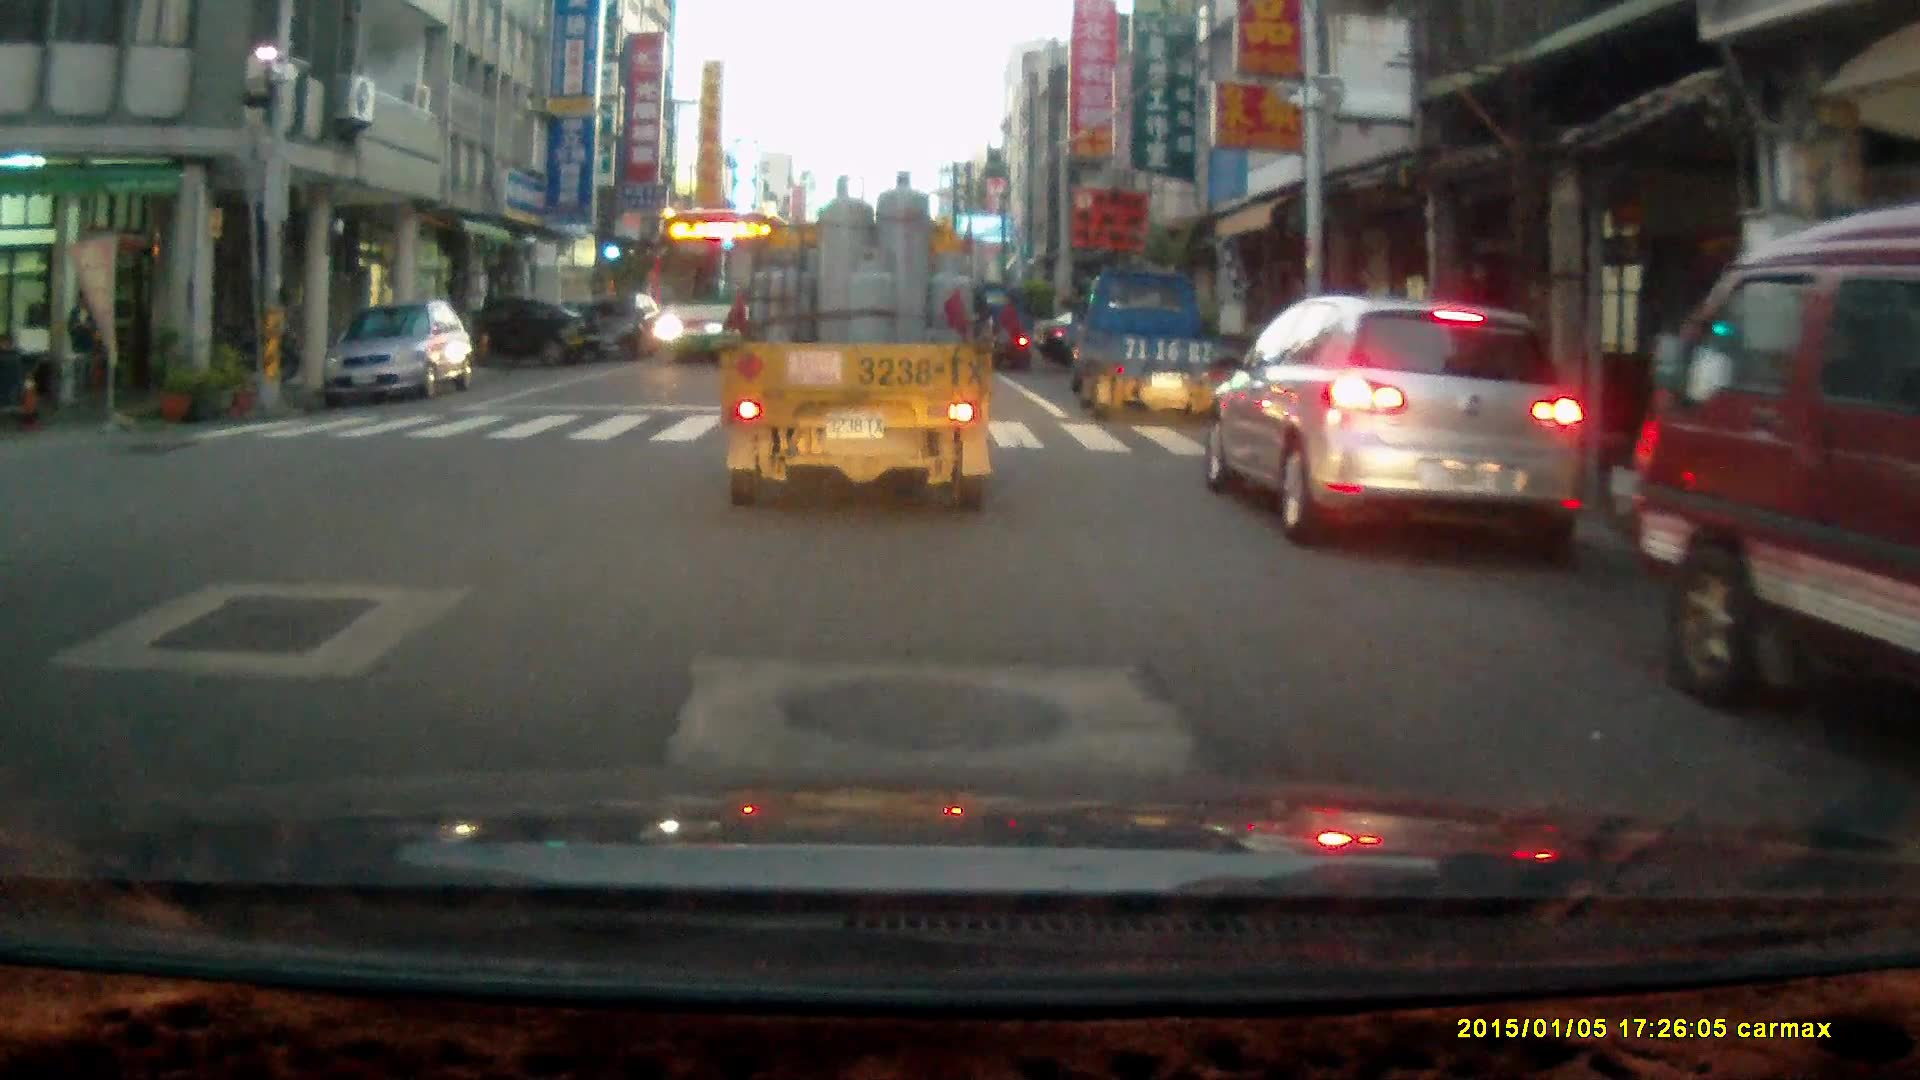pedestrian: (63, 283, 98, 415), (996, 289, 1021, 366)
vehicle: (1620, 201, 1920, 733), (1205, 295, 1589, 567), (726, 171, 994, 517), (1070, 270, 1229, 423), (649, 208, 786, 370), (320, 301, 476, 410), (409, 297, 601, 367), (579, 295, 672, 365)
